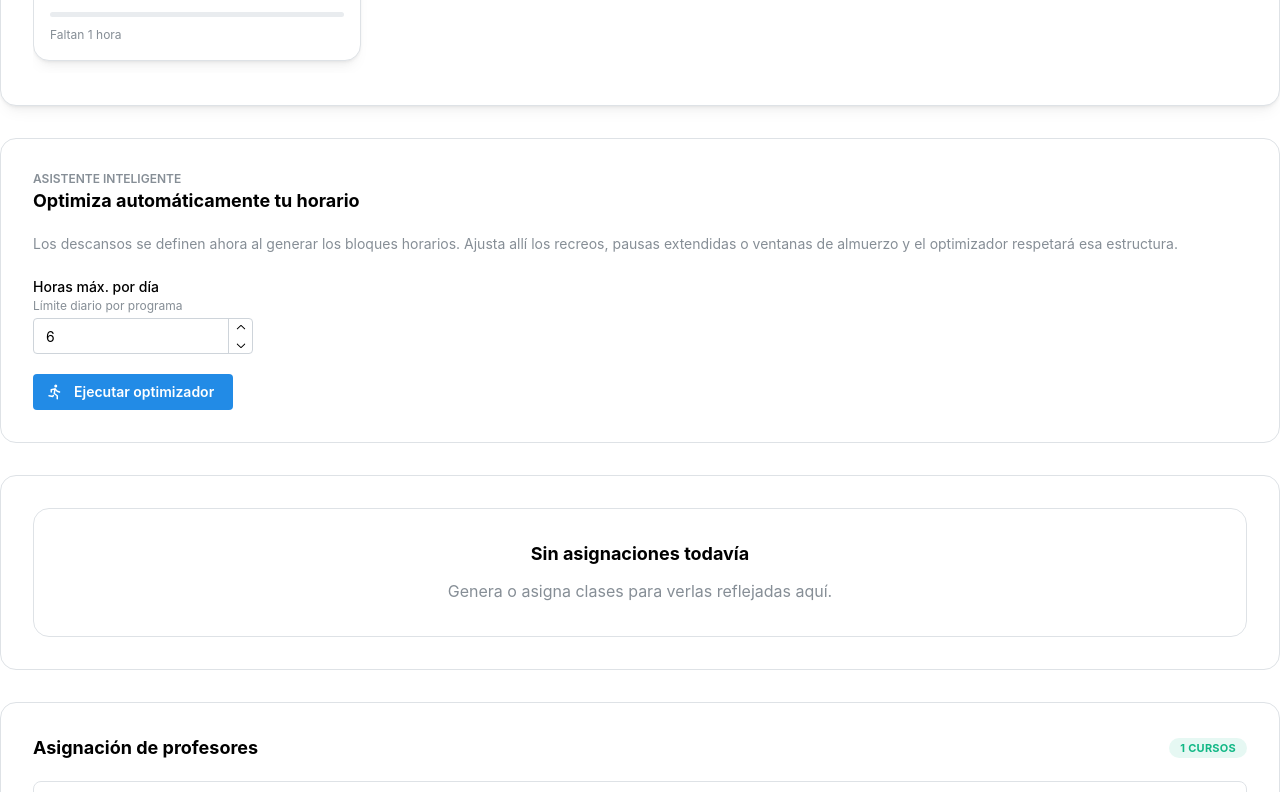
Scenario: SchedulePlanner drag & drop experience › ejecuta el optimizador y aplica la propuesta resultante
(page scrolled)
Click the button "Ejecutar optimizador": click(133, 392) [33, 374, 233, 410]
(page scrolled)
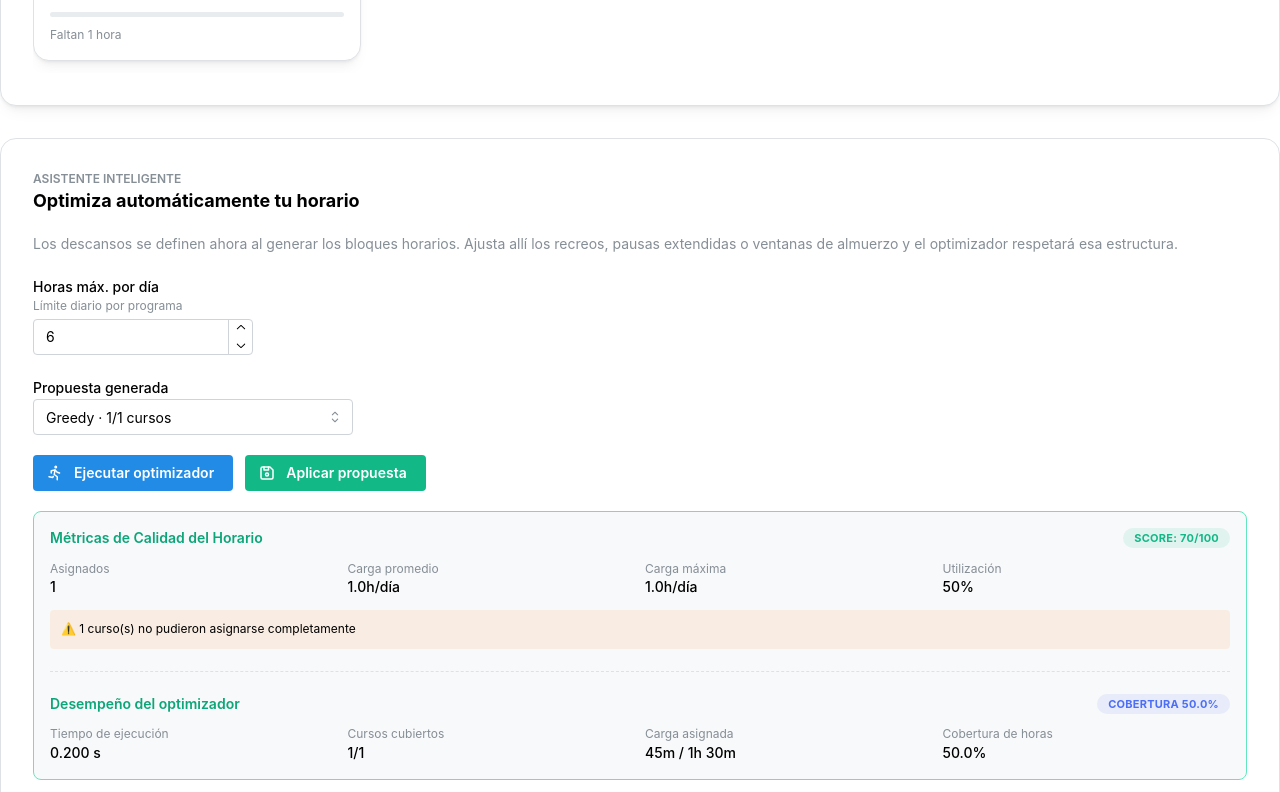
Check: the button "Aplicar propuesta" is shown
Click the button "Aplicar propuesta": click(335, 473) [245, 455, 426, 491]
(page scrolled)
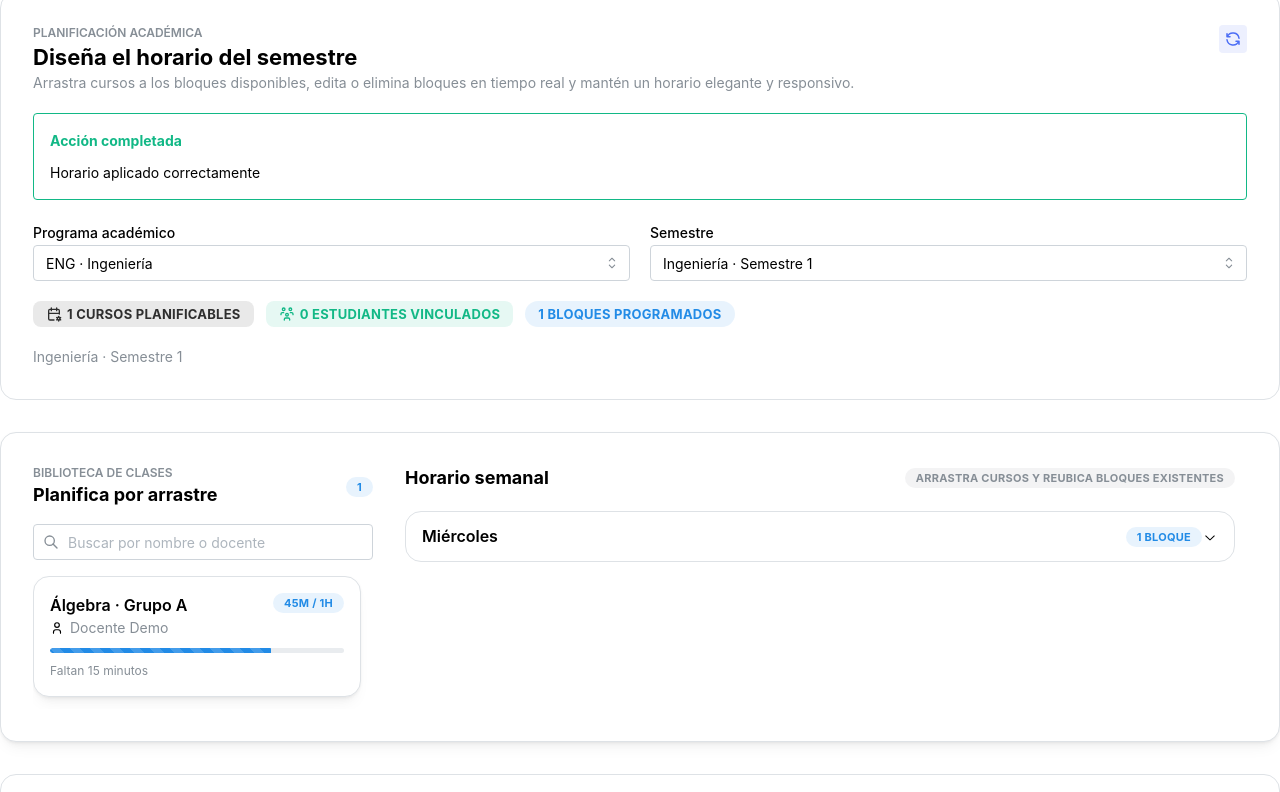
Check: the text "Horario aplicado correctamente" is shown, box [50, 164, 260, 181]
